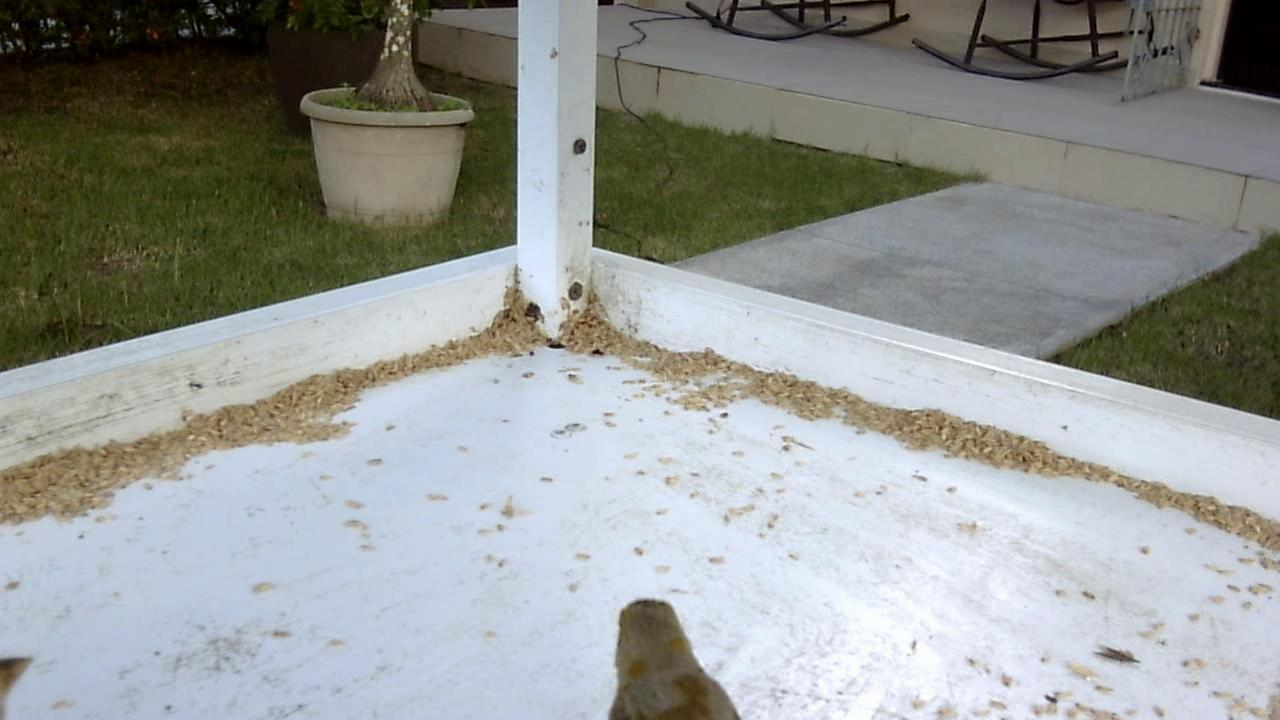canario_do_amazonas: (597, 589, 755, 718)
